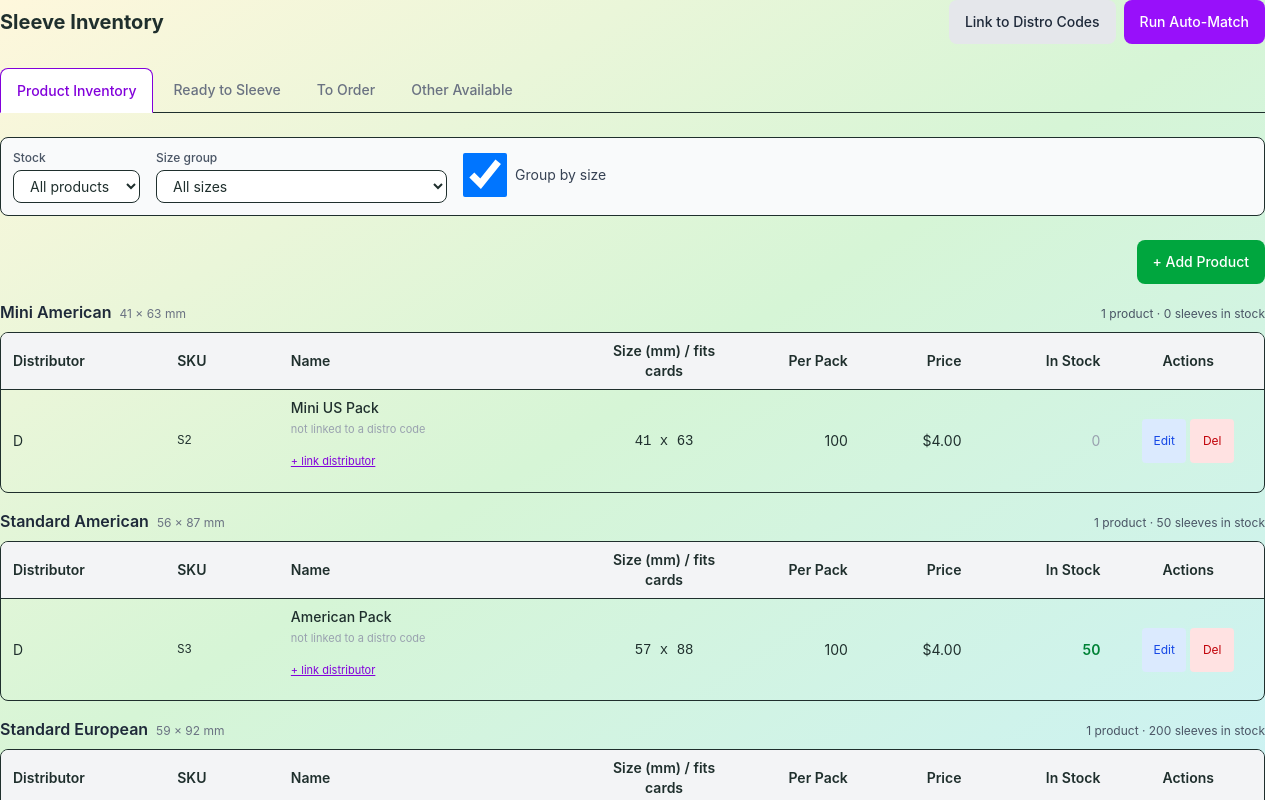
Test: SleeveInventoryTab › stock filter and size groups › combined filters with no matches show an empty state and Reset filters restores the list
Select "Out of stock" in the dropdown labelled "Stock" at (76, 186), box [13, 170, 140, 203]
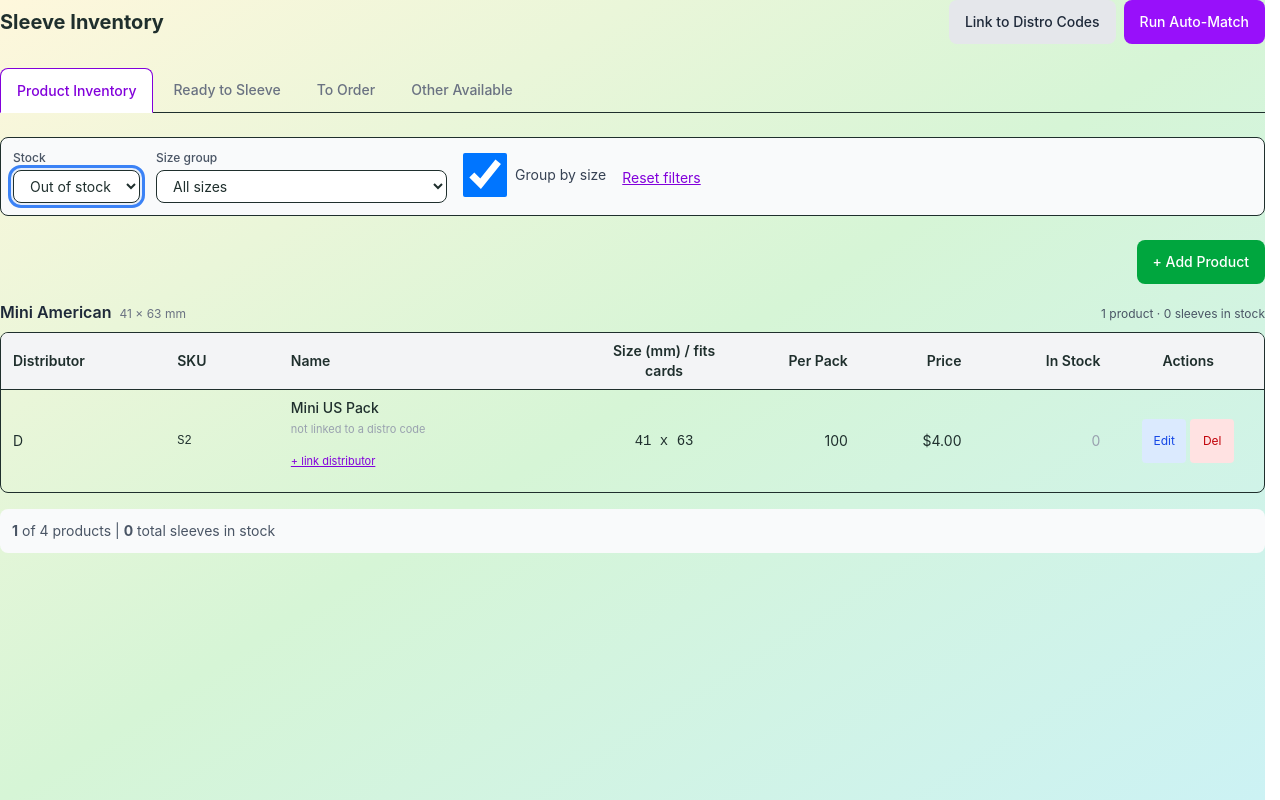
Select "Standard European (59 × 92 mm)" in the dropdown labelled "Size group" at (302, 186), box [156, 170, 447, 203]
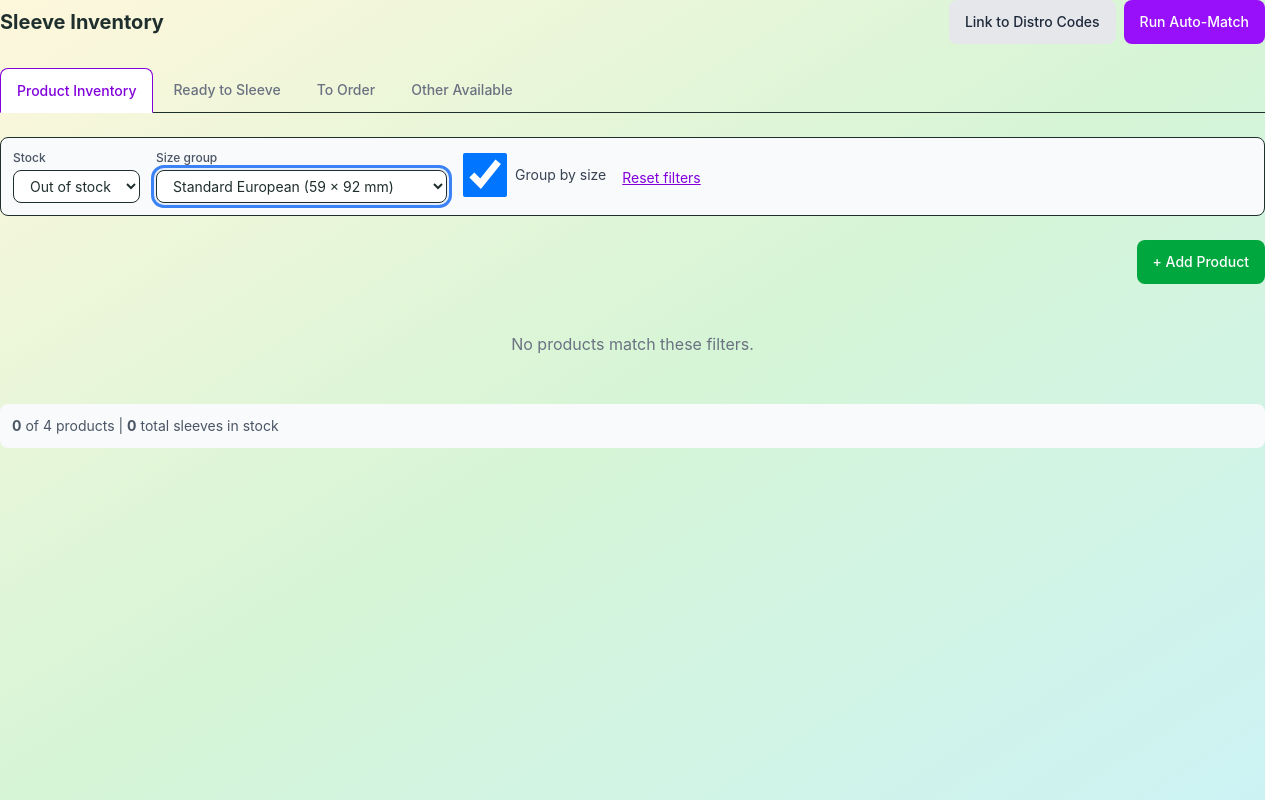
Result: the text "No products match these filters." is shown at [511, 334, 754, 354]
Click the button "Reset filters" at (662, 181), box [622, 159, 701, 203]
(page scrolled)
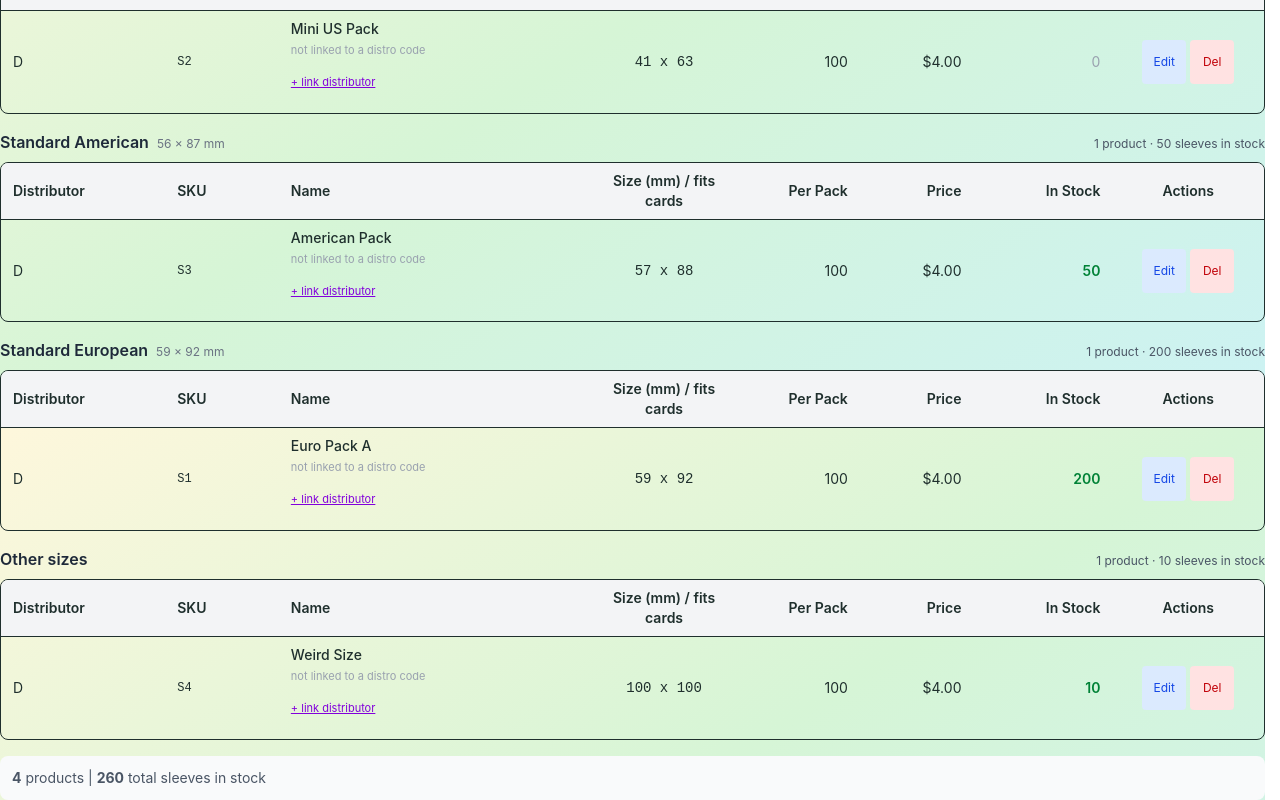
Result: the text "Euro Pack A" is shown at [291, 437, 371, 454]
Result: the text "Weird Size" is shown at [291, 646, 362, 663]
